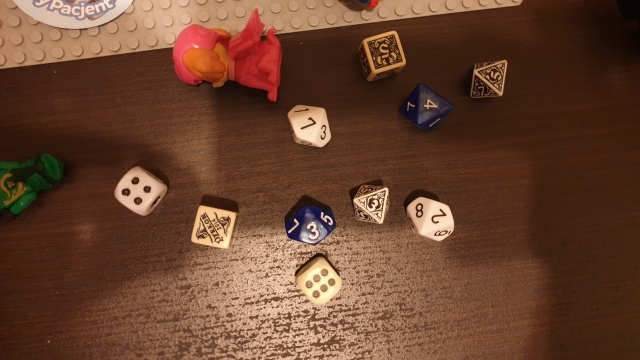d10-2: (404, 195, 465, 246)
d10-3: (277, 195, 340, 248)
d10-4: (399, 80, 454, 133)
d10-7: (284, 99, 336, 150)
d6-4: (110, 163, 169, 218)
d6-6: (291, 252, 344, 304)
d6p-1: (187, 204, 240, 253)
d6p-5: (357, 28, 409, 81)
d8p-3: (351, 180, 393, 228)
d8p-5: (465, 55, 513, 104)
